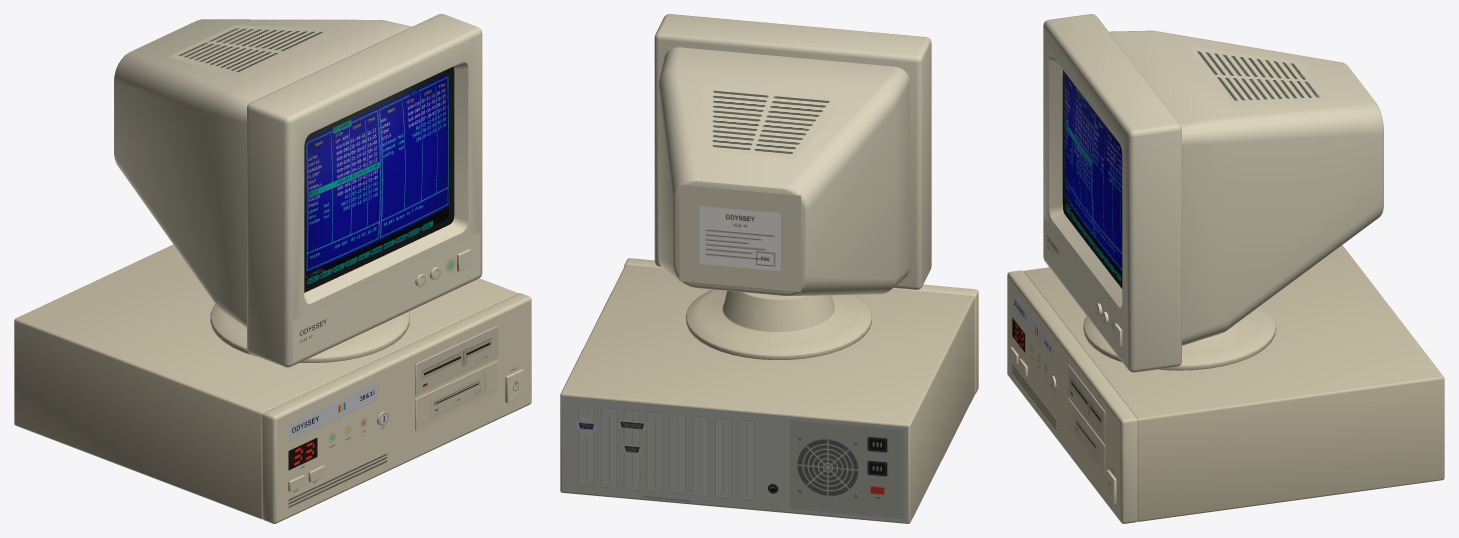
Rendered from dos.glb.
The picture shows the model from 3 angles, left to right: view 1: azimuth 30°, elevation 25°; view 2: azimuth 150°, elevation 25°; view 3: azimuth 270°, elevation 25°; orthographic projection. The views are drawn at different scales.
Parts seen in each view (by area): view 1: dos; view 2: dos; view 3: dos.
Boxes of the visible parts, <box> form: dos: <box>14,14,531,523</box>; dos: <box>560,14,978,523</box>; dos: <box>1007,14,1444,523</box>.
Bounding box in the file's own units: 1 × 0.9108 × 0.9561.
6 materials, 2 textured.
